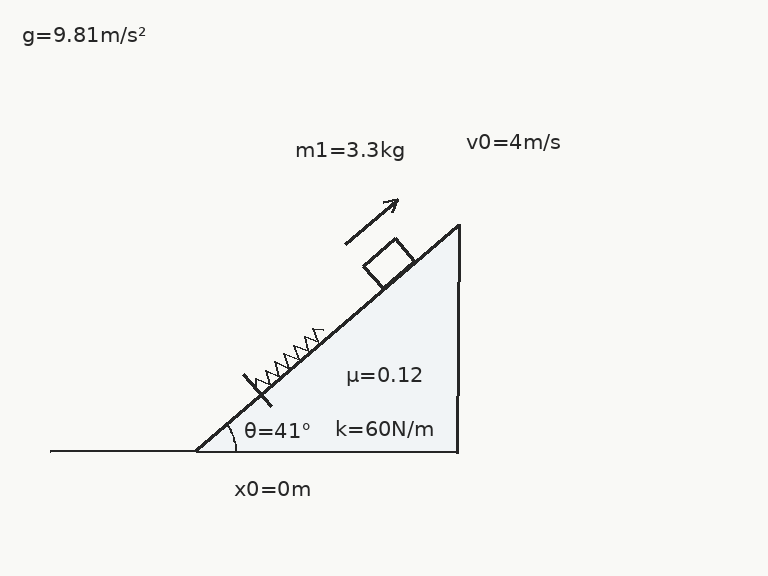block: (361, 236, 416, 291)
ramp: (194, 222, 459, 453)
spring: (253, 325, 325, 389)
